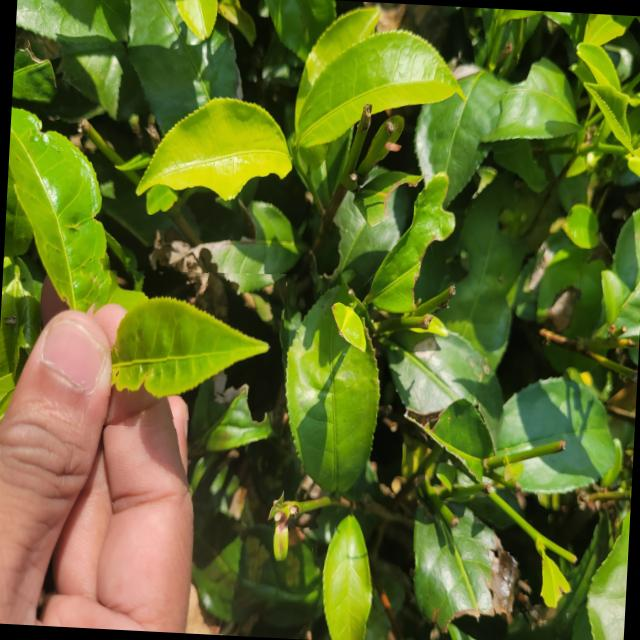Catagory A 1-2 days: (82, 264, 286, 434)
